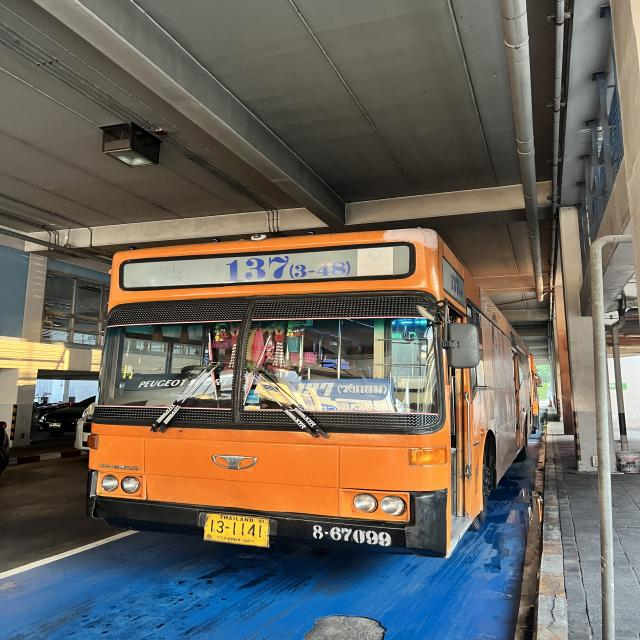BMTA-bus: (80, 230, 535, 558)
Bus-Line-Number: (222, 252, 354, 284)
Destination-Sign-Normal: (289, 379, 396, 412)
